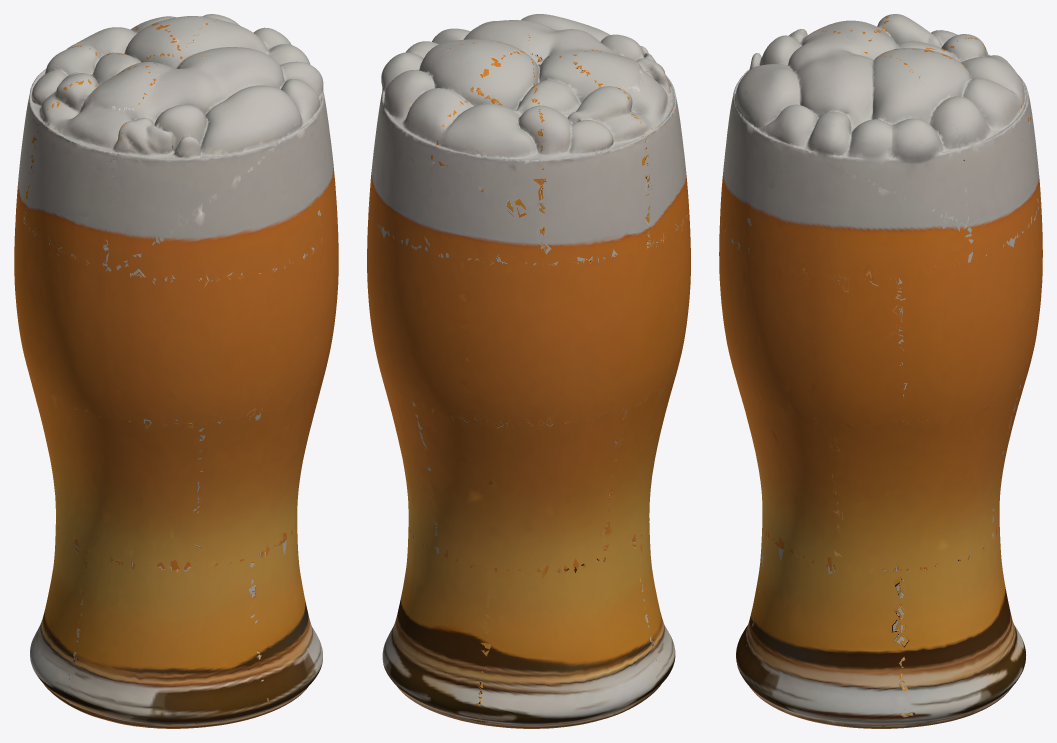
File: drinking-prevention.glb
3 views of the same model, side by side, from view 1: azimuth 30°, elevation 25°; view 2: azimuth 150°, elevation 25°; view 3: azimuth 270°, elevation 25° (orthographic).
Visible parts, largest first — view 1: DrinkingPrevention; view 2: DrinkingPrevention; view 3: DrinkingPrevention.
Boxes of the visible parts, x1,y1,x2,y2 form: DrinkingPrevention: (14,14,338,728); DrinkingPrevention: (367,14,690,728); DrinkingPrevention: (719,14,1042,728).
Size of the model in its own units: 0.4591 by 1 by 0.4598.
Materials: 1 (1 with a texture image).
